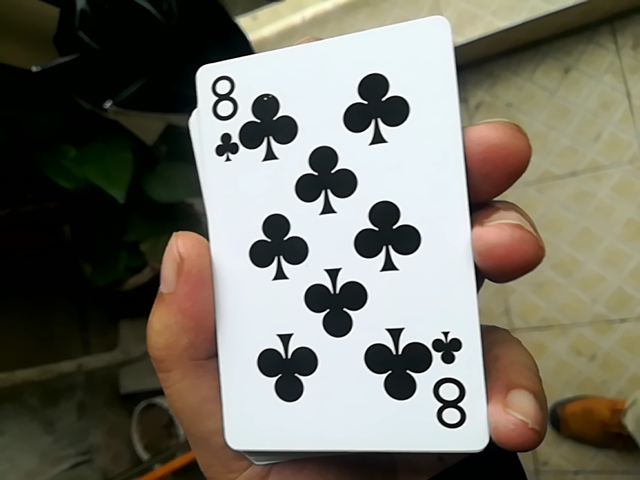mh 8: (175, 13, 477, 455)
